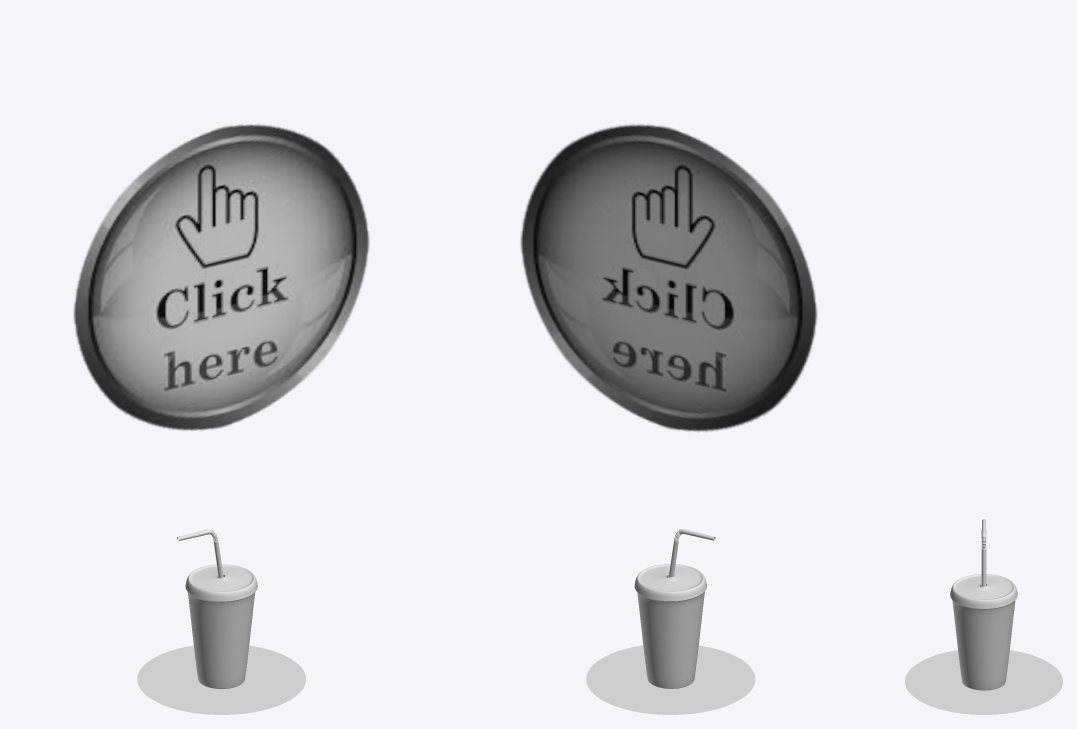
File: Cup3.glb
The picture shows the model from 3 angles, left to right: view 1: azimuth 30°, elevation 25°; view 2: azimuth 150°, elevation 25°; view 3: azimuth 270°, elevation 25°; orthographic projection. The views are drawn at different scales.
Visible parts, largest first — view 1: Plane001, Disc, plastic cup, cover; view 2: Plane001, Disc, plastic cup, cover; view 3: Disc, plastic cup, cover, straw.
Boxes of the visible parts, box(x1,y1,x2,y2) form: Plane001: box(73, 124, 369, 430); Disc: box(137, 645, 305, 714); plastic cup: box(187, 592, 255, 688); cover: box(185, 564, 257, 601); Plane001: box(520, 124, 817, 431); Disc: box(586, 645, 755, 714); plastic cup: box(637, 591, 704, 688); cover: box(634, 564, 706, 601); Disc: box(905, 650, 1062, 714); plastic cup: box(952, 600, 1015, 690); cover: box(950, 574, 1017, 609); straw: box(981, 519, 986, 586).
Size of the model in its own units: 0.4603 by 0.6481 by 0.1617.
Materials: 5 (1 with a texture image).
